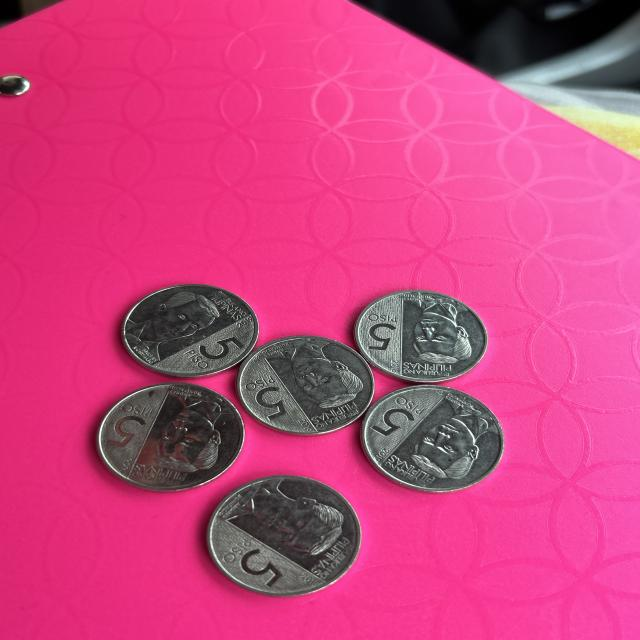5_New_Front: (219, 535, 289, 588), (240, 375, 296, 419), (373, 393, 427, 436), (108, 398, 148, 450), (188, 337, 244, 370), (363, 309, 397, 358)
